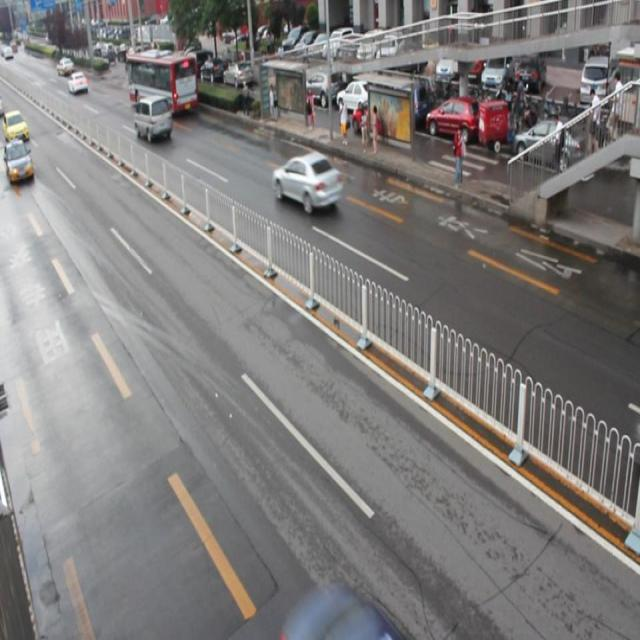car: (276, 576, 398, 640), (273, 149, 342, 210), (1, 138, 34, 186)
truck: (133, 93, 172, 143)
van: (129, 49, 198, 112)
